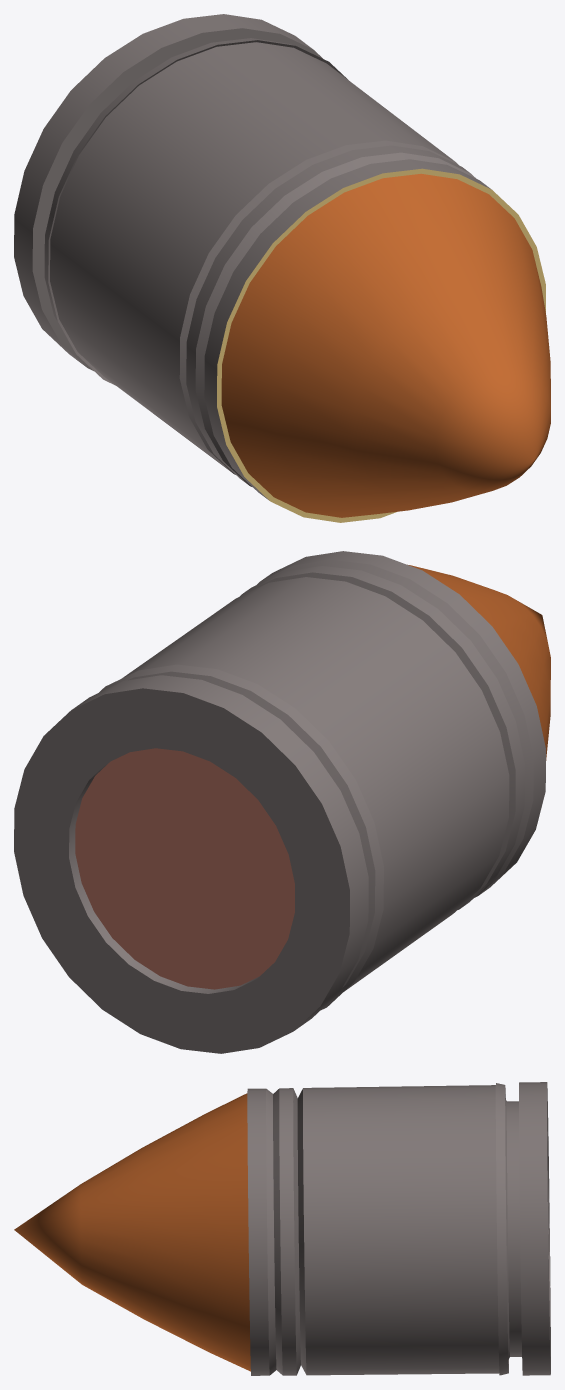
Rendered from balas2.fbx.
3 views of the same model, one above another, from view 1: azimuth 30°, elevation 25°; view 2: azimuth 150°, elevation 25°; view 3: azimuth 270°, elevation 25° (orthographic). The views are drawn at different scales.
Visible parts, largest first — view 1: Cylinder.001; view 2: Cylinder.001; view 3: Cylinder.001.
Boxes of the visible parts, x1,y1,x2,y2 form: Cylinder.001: (14,14,550,522); Cylinder.001: (14,551,550,1053); Cylinder.001: (14,1082,550,1375).
Bounding box in the file's own units: 14.29 × 14.45 × 26.34.
